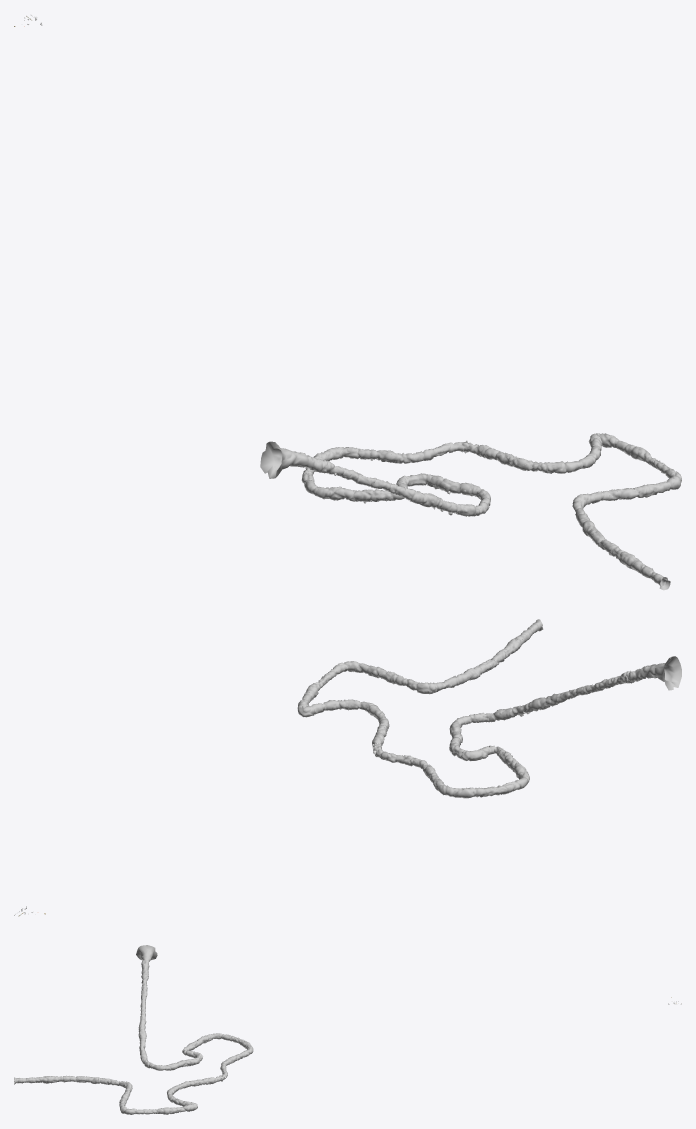
Rendered from PartC_P.fbx.
3 renders of one model, top to bottom at view 1: azimuth 30°, elevation 25°; view 2: azimuth 150°, elevation 25°; view 3: azimuth 270°, elevation 25°, orthographic. The views are drawn at different scales.
Parts seen in each view (by area): view 1: Cave_part-C_mesh; view 2: Cave_part-C_mesh; view 3: Cave_part-C_mesh.
Part boxes in pixels (x1,y1,x2,y2): Cave_part-C_mesh: (260,433,681,590); Cave_part-C_mesh: (297,619,681,798); Cave_part-C_mesh: (14,945,253,1114).
Bounding box in the file's own units: 8355 × 2794 × 22207.
